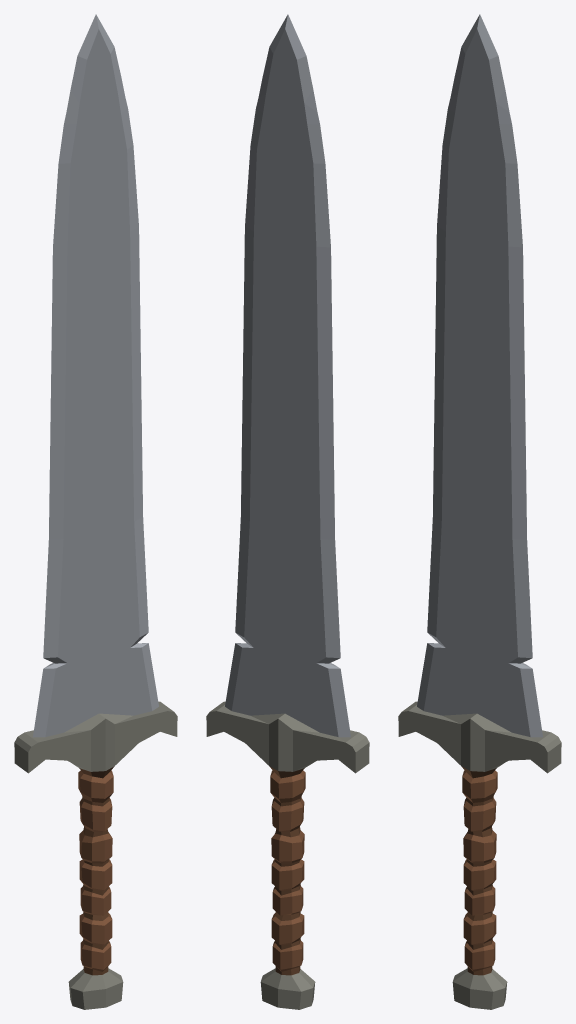
File: Sword_Big.glb
3 views of the same model, side by side, from view 1: azimuth 30°, elevation 25°; view 2: azimuth 150°, elevation 25°; view 3: azimuth 330°, elevation 25° (orthographic).
Visible parts, largest first — view 1: Steel, LightSteel, DarkSteel, LightWood, DarkWood; view 2: Steel, LightSteel, DarkSteel, LightWood, DarkWood; view 3: Steel, LightSteel, DarkSteel, LightWood, DarkWood.
Part boxes in pixels (left/top/right/bottom): Steel: left=45, top=29, right=152, bottom=736; LightSteel: left=33, top=14, right=158, bottom=737; DarkSteel: left=14, top=701, right=177, bottom=1009; LightWood: left=78, top=770, right=113, bottom=971; DarkWood: left=79, top=766, right=114, bottom=975; Steel: left=231, top=29, right=338, bottom=736; LightSteel: left=225, top=14, right=350, bottom=737; DarkSteel: left=206, top=701, right=369, bottom=1009; LightWood: left=270, top=770, right=305, bottom=971; DarkWood: left=269, top=766, right=304, bottom=975; Steel: left=423, top=29, right=530, bottom=736; LightSteel: left=417, top=14, right=542, bottom=737; DarkSteel: left=398, top=701, right=561, bottom=1009; LightWood: left=462, top=770, right=497, bottom=971; DarkWood: left=461, top=766, right=496, bottom=975.
Bounding box in the file's own units: 1.02 × 6.44 × 0.2386.
